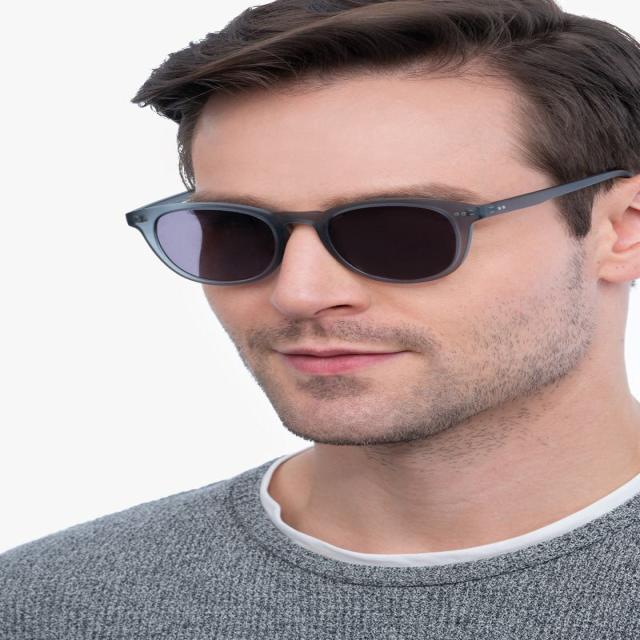2_gafas: (124, 170, 634, 288)
